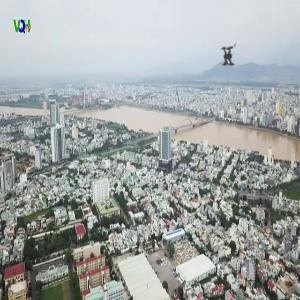drone: (203, 33, 254, 84)
